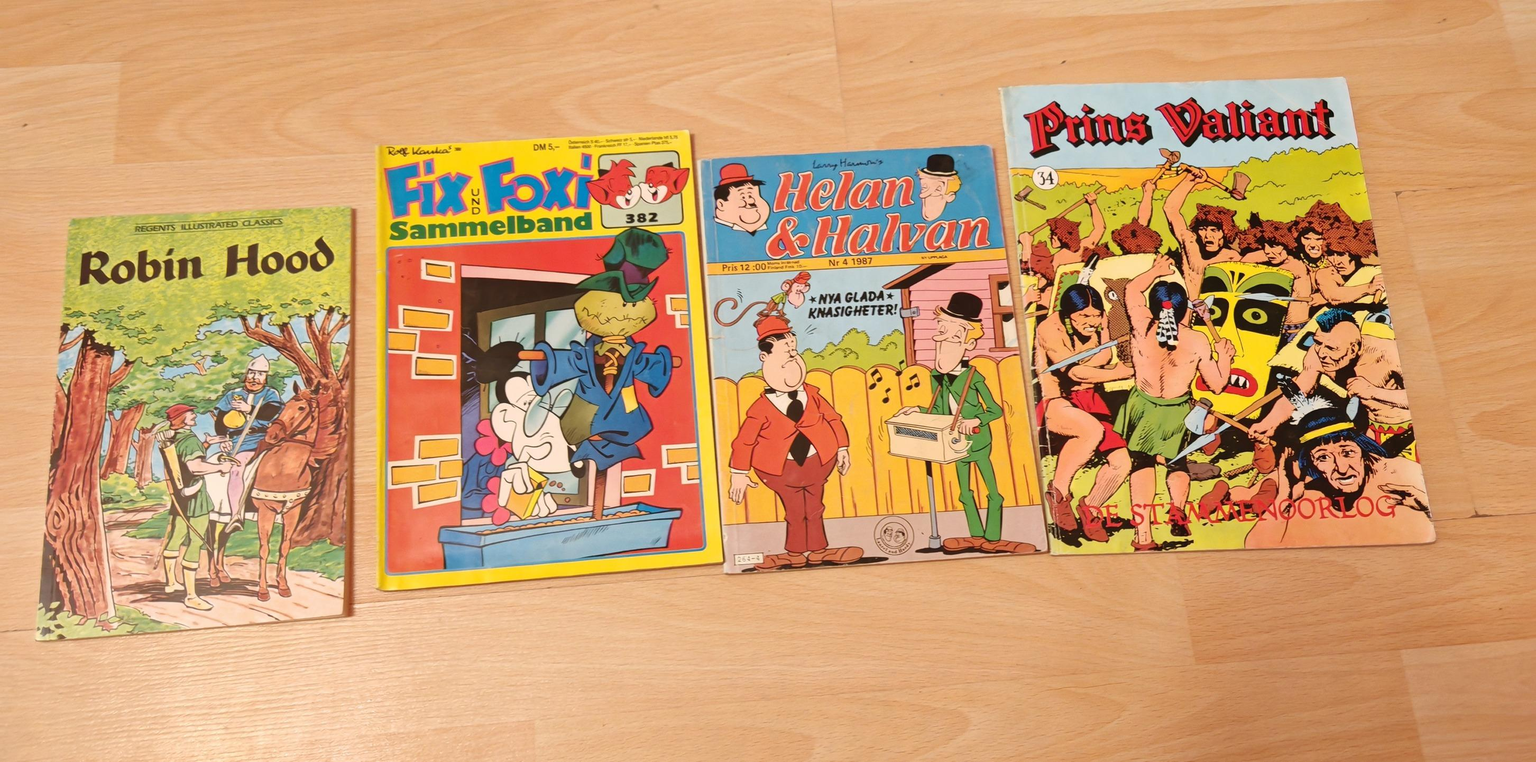comic: (1000, 50, 1435, 579), (357, 131, 721, 590), (695, 137, 1046, 575), (37, 206, 353, 640)
